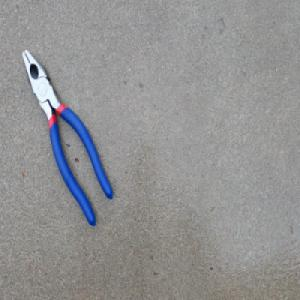Pliers: (21, 47, 113, 227)
